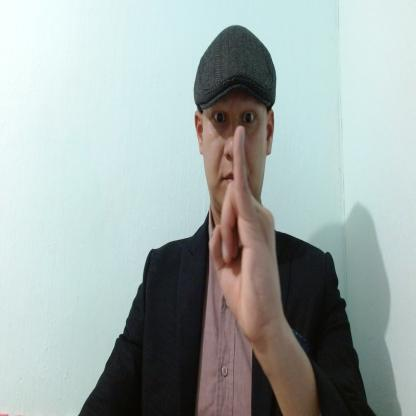I: (207, 124, 281, 346)
